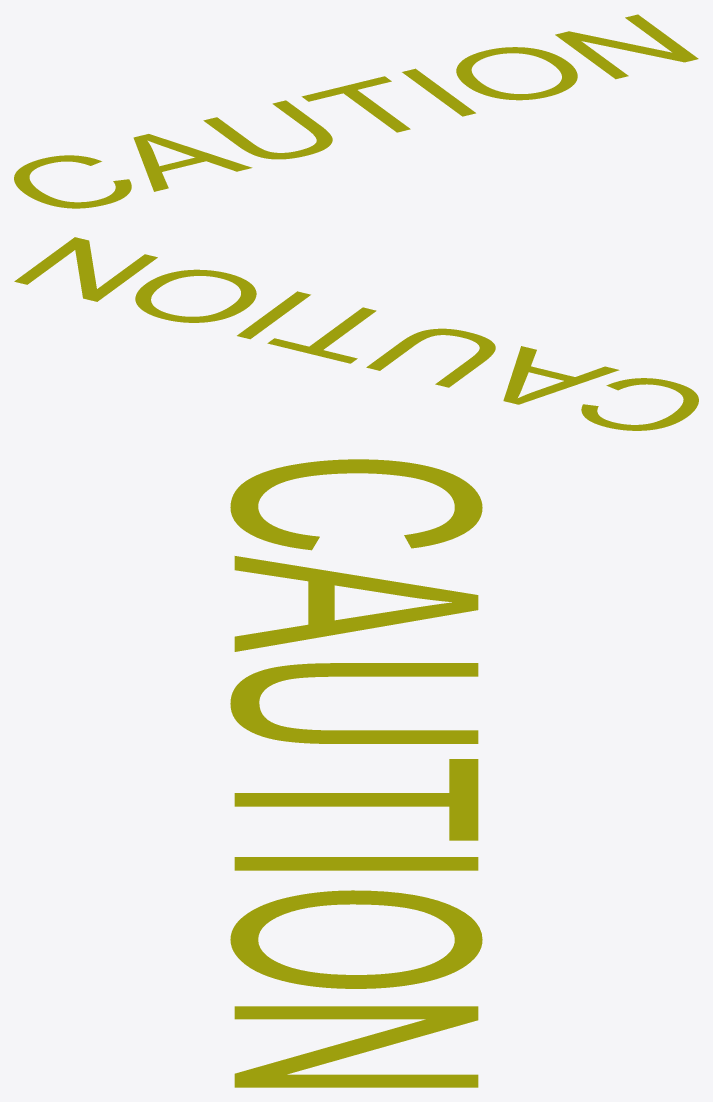
Rendered from Ground_decal_caution.FBX.
3 views of the same model, one above another, from view 1: azimuth 30°, elevation 25°; view 2: azimuth 150°, elevation 25°; view 3: azimuth 270°, elevation 25° (orthographic). The views are drawn at different scales.
Visible parts, largest first — view 1: Ground_caution; view 2: Ground_caution; view 3: Ground_caution.
Boxes of the visible parts, x1=… form: Ground_caution: x1=14, y1=14, x2=698, y2=208; Ground_caution: x1=14, y1=237, x2=698, y2=430; Ground_caution: x1=230, y1=459, x2=482, y2=1087.
Size of the model in its own units: 124 by 1.28e-15 by 20.96.
